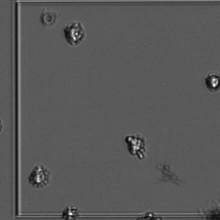Dead Cell: (37, 8, 59, 30)
Living Cell: (122, 130, 154, 162), (27, 161, 54, 188), (61, 21, 87, 47), (199, 72, 220, 93)
